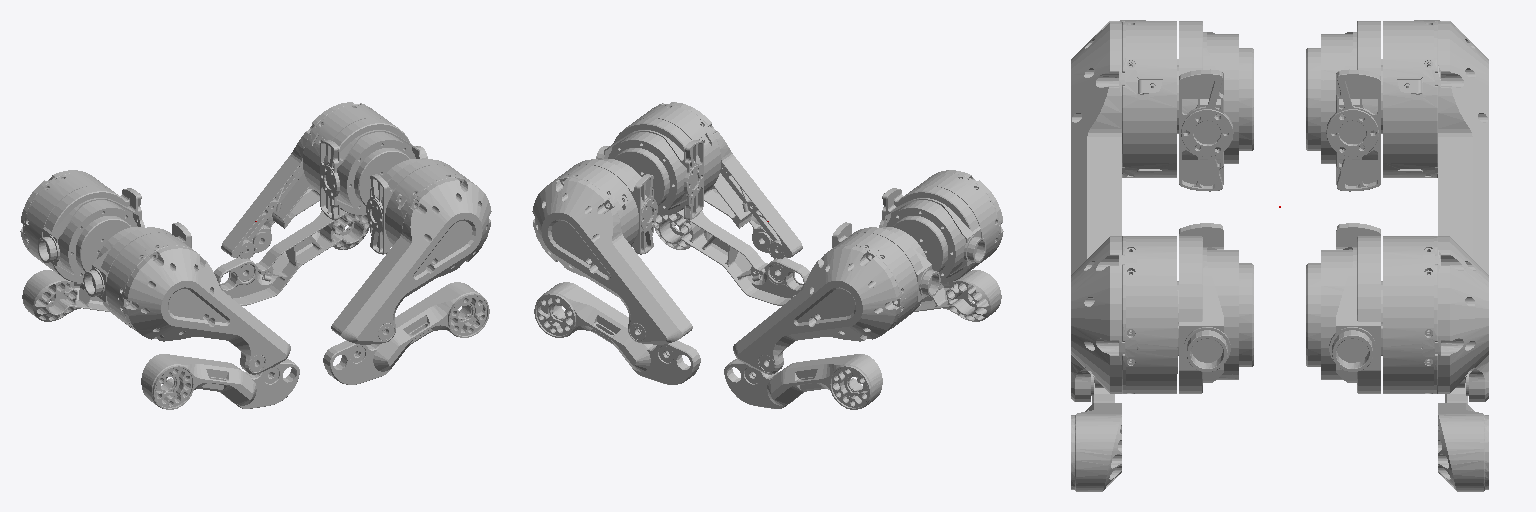
robot.urdf — y2_description:
<?xml version="1.0" encoding="utf-8"?>
<!-- This URDF was automatically created by SolidWorks to URDF Exporter! Originally created by Stephen Brawner (brawner@gmail.com) 
     Commit Version: 1.6.0-4-g7f85cfe  Build Version: 1.6.7995.38578
     For more information, please see http://wiki.ros.org/sw_urdf_exporter -->
<robot
  name="y2_description">
  <link
    name="base_link">
<inertial>
  <origin
    xyz="0.0 0.0 0.00660336"
    rpy="0 0 0" />
  <mass
    value="13.62220311" />
  <inertia
    ixx="0.05745341"
    ixy="-0.0002082"
    ixz="0.0"
    iyy="0.28193067"
    iyz="0.0"
    izz="0.28070589" />
</inertial>
    <visual>
      <origin
        xyz="0 0 0"
        rpy="0 0 0" />
      <geometry>
        <mesh
          filename="../meshes/base_link.STL" />
      </geometry>
      <material
        name="">
        <color
          rgba="0.75294 0.75294 0.75294 1" />
      </material>
    </visual>
    <collision>
      <origin
        xyz="0 0 0"
        rpy="0 0 0" />
      <geometry>
        <mesh
          filename="../meshes/base_link.STL" />
      </geometry>
    </collision>
  </link>
  <link
    name="imu_link">
<inertial>
  <origin
    xyz="0 0 0"
    rpy="0 0 0" />
  <mass
    value="0.001" />
  <inertia
    ixx="0.0001"
    ixy="0"
    ixz="0"
    iyy="0.0001"
    iyz="0"
    izz="0.0001" />
</inertial>
    <visual>
      <origin
        xyz="0 0 0"
        rpy="0 0 0" />
      <geometry>
        <box
          size="0.001 0.001 0.001" />
      </geometry>
      <material
        name="red">
        <color
          rgba="1 0 0 1" />
      </material>
    </visual>
    <collision>
      <origin
        xyz="0 0 0"
        rpy="0 0 0" />
      <geometry>
        <box
          size="0.000518 0.000518 0.000518" />
      </geometry>
    </collision>
  </link>
  <joint
    name="imu_joint"
    type="fixed">
    <origin
      xyz="0 0 0"
      rpy="0 0 0" />
    <parent
      link="base_link" />
    <child
      link="imu_link" />
  </joint>
  <link
    name="front_left_hip_link">
<inertial>
  <origin
    xyz="-0.00557137 3.365e-05 0.05740371"
    rpy="0 0 0" />
  <mass
    value="0.93241215" />
  <inertia
    ixx="0.0011636"
    ixy="-4.5e-07"
    ixz="7.77e-06"
    iyy="0.00081261"
    iyz="1.34e-06"
    izz="0.00072333" />
</inertial>
    <visual>
      <origin
        xyz="0 0 0"
        rpy="0 0 0" />
      <geometry>
        <mesh
          filename="../meshes/front_left_hip_link.STL" />
      </geometry>
      <material
        name="">
        <color
          rgba="0.75294 0.75294 0.75294 1" />
      </material>
    </visual>
    <collision>
      <origin
        xyz="0 0 0"
        rpy="0 0 0" />
      <geometry>
        <mesh
          filename="../meshes/front_left_hip_link.STL" />
      </geometry>
    </collision>
  </link>
  <joint
    name="front_left_hip_joint"
    type="fixed">
    <origin
      xyz="0.126 0.0525 0"
      rpy="1.5708 0 1.5708" />
    <parent
      link="base_link" />
    <child
      link="front_left_hip_link" />
  </joint>
  <link
    name="front_left_thigh_link">
<inertial>
  <origin
    xyz="0.00850956 0.00116386 -0.03650107"
    rpy="0 0 0" />
  <mass
    value="1.04795802" />
  <inertia
    ixx="0.00097197"
    ixy="-0.00013838"
    ixz="-0.00028846"
    iyy="0.00202121"
    iyz="-4.168e-05"
    izz="0.0022969" />
</inertial>
    <visual>
      <origin
        xyz="0 0 0"
        rpy="0 0 0" />
      <geometry>
        <mesh
          filename="../meshes/front_left_thigh_link.STL" />
      </geometry>
      <material
        name="">
        <color
          rgba="0.75294 0.75294 0.75294 1" />
      </material>
    </visual>
    <collision>
      <origin
        xyz="0 0 0"
        rpy="0 0 0" />
      <geometry>
        <mesh
          filename="../meshes/front_left_thigh_link.STL" />
      </geometry>
    </collision>
  </link>
  <joint
    name="front_left_thigh_joint"
    type="revolute">
    <origin
      xyz="0.087 0 0.0583"
      rpy="-1.5708 0.7854 -1.5708" />
    <parent
      link="front_left_hip_link" />
    <child
      link="front_left_thigh_link" />
    <axis
      xyz="0 0 1" />
    <limit
      lower="-2.3562"
      upper="2.3562"
      effort="24"
      velocity="6" />
  </joint>
  <link
    name="front_left_knee_link">
<inertial>
  <origin
    xyz="0.08449172 0.00209534 -0.00687557"
    rpy="0 0 0" />
  <mass
    value="0.19539429" />
  <inertia
    ixx="6.436e-05"
    ixy="5.555e-05"
    ixz="-3.65e-05"
    iyy="0.0008211"
    iyz="3.3e-07"
    izz="0.0008554" />
</inertial>
    <visual>
      <origin
        xyz="0 0 0"
        rpy="0 0 0" />
      <geometry>
        <mesh
          filename="../meshes/front_left_knee_link.STL" />
      </geometry>
      <material
        name="">
        <color
          rgba="0.75294 0.75294 0.75294 1" />
      </material>
    </visual>
    <collision>
      <origin
        xyz="0 0 0"
        rpy="0 0 0" />
      <geometry>
        <mesh
          filename="../meshes/front_left_knee_link.STL" />
      </geometry>
    </collision>
  </link>
  <joint
    name="front_left_knee_joint"
    type="revolute">
    <origin
      xyz="0.18 0 0"
      rpy="0 0 -2.5197" />
    <parent
      link="front_left_thigh_link" />
    <child
      link="front_left_knee_link" />
    <axis
      xyz="0 0 1" />
    <limit
      lower="0"
      upper="1.9199"
      effort="24"
      velocity="6" />
  </joint>
  <link
    name="front_left_wheel_link">
<inertial>
  <origin
    xyz="-1.864e-05 1.98e-06 0.03424961"
    rpy="0 0 0" />
  <mass
    value="1.48448049" />
  <inertia
    ixx="0.00350856"
    ixy="3e-08"
    ixz="2.2e-07"
    iyy="0.00351161"
    iyz="-2.2e-07"
    izz="0.00660183" />
</inertial>
    <visual>
      <origin
        xyz="0 0 0"
        rpy="0 0 0" />
      <geometry>
        <mesh
          filename="../meshes/front_left_wheel_link.STL" />
      </geometry>
      <material
        name="">
        <color
          rgba="0.89804 0.91765 0.92941 1" />
      </material>
    </visual>
    <collision>
      <origin
        xyz="0 0 0"
        rpy="0 0 0" />
      <geometry>
        <mesh
          filename="../meshes/front_left_wheel_link.STL" />
      </geometry>
    </collision>
  </link>
  <joint
    name="front_left_wheel_joint"
    type="revolute">
    <origin
      xyz="0.18 0 0"
      rpy="0 0 0.16348" />
    <parent
      link="front_left_knee_link" />
    <child
      link="front_left_wheel_link" />
    <axis
      xyz="0 0 1" />
    <limit
      lower="-31415926535.0"
      upper="31415926535.0"
      effort="20"
      velocity="30" />
  </joint>
  <link
    name="front_right_hip_link">
<inertial>
  <origin
    xyz="0.00557137 -3.365e-05 0.05740371"
    rpy="0 0 0" />
  <mass
    value="0.93241215" />
  <inertia
    ixx="0.0011636"
    ixy="-4.5e-07"
    ixz="-7.77e-06"
    iyy="0.00081261"
    iyz="-1.34e-06"
    izz="0.00072333" />
</inertial>
    <visual>
      <origin
        xyz="0 0 0"
        rpy="0 0 0" />
      <geometry>
        <mesh
          filename="../meshes/front_right_hip_link.STL" />
      </geometry>
      <material
        name="">
        <color
          rgba="0.75294 0.75294 0.75294 1" />
      </material>
    </visual>
    <collision>
      <origin
        xyz="0 0 0"
        rpy="0 0 0" />
      <geometry>
        <mesh
          filename="../meshes/front_right_hip_link.STL" />
      </geometry>
    </collision>
  </link>
  <joint
    name="front_right_hip_joint"
    type="fixed">
    <origin
      xyz="0.126 -0.0525 0"
      rpy="1.5708 0 1.5708" />
    <parent
      link="base_link" />
    <child
      link="front_right_hip_link" />
  </joint>
  <link
    name="front_right_thigh_link">
<inertial>
  <origin
    xyz="0.00850956 0.00116386 0.03650107"
    rpy="0 0 0" />
  <mass
    value="1.04795802" />
  <inertia
    ixx="0.00097197"
    ixy="-0.00013838"
    ixz="0.00028846"
    iyy="0.00202121"
    iyz="4.168e-05"
    izz="0.0022969" />
</inertial>
    <visual>
      <origin
        xyz="0 0 0"
        rpy="0 0 0" />
      <geometry>
        <mesh
          filename="../meshes/front_right_thigh_link.STL" />
      </geometry>
      <material
        name="">
        <color
          rgba="0.75294 0.75294 0.75294 1" />
      </material>
    </visual>
    <collision>
      <origin
        xyz="0 0 0"
        rpy="0 0 0" />
      <geometry>
        <mesh
          filename="../meshes/front_right_thigh_link.STL" />
      </geometry>
    </collision>
  </link>
  <joint
    name="front_right_thigh_joint"
    type="revolute">
    <origin
      xyz="-0.087 0 0.0583"
      rpy="-1.5708 0.7854 -1.5708" />
    <parent
      link="front_right_hip_link" />
    <child
      link="front_right_thigh_link" />
    <axis
      xyz="0 0 1" />
    <limit
      lower="-2.3562"
      upper="2.3562"
      effort="24"
      velocity="6" />
  </joint>
  <link
    name="front_right_knee_link">
<inertial>
  <origin
    xyz="0.08449172 0.00209534 0.00687557"
    rpy="0 0 0" />
  <mass
    value="0.19539429" />
  <inertia
    ixx="6.436e-05"
    ixy="5.555e-05"
    ixz="3.65e-05"
    iyy="0.0008211"
    iyz="-3.3e-07"
    izz="0.0008554" />
</inertial>
    <visual>
      <origin
        xyz="0 0 0"
        rpy="0 0 0" />
      <geometry>
        <mesh
          filename="../meshes/front_right_knee_link.STL" />
      </geometry>
      <material
        name="">
        <color
          rgba="0.75294 0.75294 0.75294 1" />
      </material>
    </visual>
    <collision>
      <origin
        xyz="0 0 0"
        rpy="0 0 0" />
      <geometry>
        <mesh
          filename="../meshes/front_right_knee_link.STL" />
      </geometry>
    </collision>
  </link>
  <joint
    name="front_right_knee_joint"
    type="revolute">
    <origin
      xyz="0.18 0 0"
      rpy="0 0 -2.5197" />
    <parent
      link="front_right_thigh_link" />
    <child
      link="front_right_knee_link" />
    <axis
      xyz="0 0 1" />
    <limit
      lower="0"
      upper="1.9199"
      effort="24"
      velocity="6" />
  </joint>
  <link
    name="front_right_wheel_link">
<inertial>
  <origin
    xyz="-1.864e-05 1.98e-06 -0.03424961"
    rpy="0 0 0" />
  <mass
    value="1.48448049" />
  <inertia
    ixx="0.00350856"
    ixy="3e-08"
    ixz="-2.2e-07"
    iyy="0.00351161"
    iyz="-2.2e-07"
    izz="0.00660183" />
</inertial>
    <visual>
      <origin
        xyz="0 0 0"
        rpy="0 0 0" />
      <geometry>
        <mesh
          filename="../meshes/front_right_wheel_link.STL" />
      </geometry>
      <material
        name="">
        <color
          rgba="0.89804 0.91765 0.92941 1" />
      </material>
    </visual>
    <collision>
      <origin
        xyz="0 0 0"
        rpy="0 0 0" />
      <geometry>
        <mesh
          filename="../meshes/front_right_wheel_link.STL" />
      </geometry>
    </collision>
  </link>
  <joint
    name="front_right_wheel_joint"
    type="revolute">
    <origin
      xyz="0.18 0 0"
      rpy="0 0 0.16348" />
    <parent
      link="front_right_knee_link" />
    <child
      link="front_right_wheel_link" />
    <axis
      xyz="0 0 1" />
    <limit
      lower="-31415926535"
      upper="31415926535"
      effort="20"
      velocity="30" />
  </joint>
  <link
    name="back_left_hip_link">
<inertial>
  <origin
    xyz="-0.00557137 3.365e-05 -0.05740371"
    rpy="0 0 0" />
  <mass
    value="0.93241215" />
  <inertia
    ixx="0.0011636"
    ixy="-4.5e-07"
    ixz="-7.77e-06"
    iyy="0.00081261"
    iyz="-1.34e-06"
    izz="0.00072333" />
</inertial>
    <visual>
      <origin
        xyz="0 0 0"
        rpy="0 0 0" />
      <geometry>
        <mesh
          filename="../meshes/back_left_hip_link.STL" />
      </geometry>
      <material
        name="">
        <color
          rgba="0.75294 0.75294 0.75294 1" />
      </material>
    </visual>
    <collision>
      <origin
        xyz="0 0 0"
        rpy="0 0 0" />
      <geometry>
        <mesh
          filename="../meshes/back_left_hip_link.STL" />
      </geometry>
    </collision>
  </link>
  <joint
    name="back_left_hip_joint"
    type="fixed">
    <origin
      xyz="-0.126 0.0525 0"
      rpy="1.5708 0 1.5708" />
    <parent
      link="base_link" />
    <child
      link="back_left_hip_link" />
  </joint>
  <link
    name="back_left_thigh_link">
<inertial>
  <origin
    xyz="0.00850956 -0.00116386 -0.03650107"
    rpy="0 0 0" />
  <mass
    value="1.04795802" />
  <inertia
    ixx="0.00097197"
    ixy="0.00013838"
    ixz="-0.00028846"
    iyy="0.00202121"
    iyz="4.168e-05"
    izz="0.0022969" />
</inertial>
    <visual>
      <origin
        xyz="0 0 0"
        rpy="0 0 0" />
      <geometry>
        <mesh
          filename="../meshes/back_left_thigh_link.STL" />
      </geometry>
      <material
        name="">
        <color
          rgba="0.75294 0.75294 0.75294 1" />
      </material>
    </visual>
    <collision>
      <origin
        xyz="0 0 0"
        rpy="0 0 0" />
      <geometry>
        <mesh
          filename="../meshes/back_left_thigh_link.STL" />
      </geometry>
    </collision>
  </link>
  <joint
    name="back_left_thigh_joint"
    type="revolute">
    <origin
      xyz="0.087 0 -0.0583"
      rpy="-1.5708 -0.7854 -1.5708" />
    <parent
      link="back_left_hip_link" />
    <child
      link="back_left_thigh_link" />
    <axis
      xyz="0 0 1" />
    <limit
      lower="-2.3562"
      upper="2.3562"
      effort="24"
      velocity="6" />
  </joint>
  <link
    name="back_left_knee_link">
<inertial>
  <origin
    xyz="0.08449171 -0.00209534 -0.00687557"
    rpy="0 0 0" />
  <mass
    value="0.19539429" />
  <inertia
    ixx="6.436e-05"
    ixy="-5.555e-05"
    ixz="-3.65e-05"
    iyy="0.0008211"
    iyz="-3.3e-07"
    izz="0.0008554" />
</inertial>
    <visual>
      <origin
        xyz="0 0 0"
        rpy="0 0 0" />
      <geometry>
        <mesh
          filename="../meshes/back_left_knee_link.STL" />
      </geometry>
      <material
        name="">
        <color
          rgba="0.75294 0.75294 0.75294 1" />
      </material>
    </visual>
    <collision>
      <origin
        xyz="0 0 0"
        rpy="0 0 0" />
      <geometry>
        <mesh
          filename="../meshes/back_left_knee_link.STL" />
      </geometry>
    </collision>
  </link>
  <joint
    name="back_left_knee_joint"
    type="revolute">
    <origin
      xyz="0.18 0 0"
      rpy="0 0 2.5197" />
    <parent
      link="back_left_thigh_link" />
    <child
      link="back_left_knee_link" />
    <axis
      xyz="0 0 1" />
    <limit
      lower="-1.9199"
      upper="0"
      effort="24"
      velocity="6" />
  </joint>
  <link
    name="back_left_wheel_link">
<inertial>
  <origin
    xyz="-1.864e-05 -1.98e-06 0.03424961"
    rpy="0 0 0" />
  <mass
    value="1.48448049" />
  <inertia
    ixx="0.00350856"
    ixy="-3e-08"
    ixz="2.2e-07"
    iyy="0.00351161"
    iyz="2.2e-07"
    izz="0.00660183" />
</inertial>
    <visual>
      <origin
        xyz="0 0 0"
        rpy="0 0 0" />
      <geometry>
        <mesh
          filename="../meshes/back_left_wheel_link.STL" />
      </geometry>
      <material
        name="">
        <color
          rgba="1 1 1 1" />
      </material>
    </visual>
    <collision>
      <origin
        xyz="0 0 0"
        rpy="0 0 0" />
      <geometry>
        <mesh
          filename="../meshes/back_left_wheel_link.STL" />
      </geometry>
    </collision>
  </link>
  <joint
    name="back_left_wheel_joint"
    type="revolute">
    <origin
      xyz="0.18 0 0"
      rpy="0 0 2.9781" />
    <parent
      link="back_left_knee_link" />
    <child
      link="back_left_wheel_link" />
    <axis
      xyz="0 0 1" />
    <limit
      lower="-31415926535"
      upper="31415926535"
      effort="20"
      velocity="30" />
  </joint>
  <link
    name="back_right_hip_link">
<inertial>
  <origin
    xyz="0.00557137 3.365e-05 -0.05740371"
    rpy="0 0 0" />
  <mass
    value="0.93241215" />
  <inertia
    ixx="0.0011636"
    ixy="4.5e-07"
    ixz="7.77e-06"
    iyy="0.00081261"
    iyz="-1.34e-06"
    izz="0.00072333" />
</inertial>
    <visual>
      <origin
        xyz="0 0 0"
        rpy="0 0 0" />
      <geometry>
        <mesh
          filename="../meshes/back_right_hip_link.STL" />
      </geometry>
      <material
        name="">
        <color
          rgba="0.75294 0.75294 0.75294 1" />
      </material>
    </visual>
    <collision>
      <origin
        xyz="0 0 0"
        rpy="0 0 0" />
      <geometry>
        <mesh
          filename="../meshes/back_right_hip_link.STL" />
      </geometry>
    </collision>
  </link>
  <joint
    name="back_right_hip_joint"
    type="fixed">
    <origin
      xyz="-0.126 -0.0525 0"
      rpy="1.5708 0 1.5708" />
    <parent
      link="base_link" />
    <child
      link="back_right_hip_link" />
  </joint>
  <link
    name="back_right_thigh_link">
<inertial>
  <origin
    xyz="0.00850956 -0.00116386 0.03650107"
    rpy="0 0 0" />
  <mass
    value="1.04795802" />
  <inertia
    ixx="0.00097197"
    ixy="0.00013838"
    ixz="0.00028846"
    iyy="0.00202121"
    iyz="-4.168e-05"
    izz="0.0022969" />
</inertial>
    <visual>
      <origin
        xyz="0 0 0"
        rpy="0 0 0" />
      <geometry>
        <mesh
          filename="../meshes/back_right_thigh_link.STL" />
      </geometry>
      <material
        name="">
        <color
          rgba="0.75294 0.75294 0.75294 1" />
      </material>
    </visual>
    <collision>
      <origin
        xyz="0 0 0"
        rpy="0 0 0" />
      <geometry>
        <mesh
          filename="../meshes/back_right_thigh_link.STL" />
      </geometry>
    </collision>
  </link>
  <joint
    name="back_right_thigh_joint"
    type="revolute">
    <origin
      xyz="-0.087 0 -0.0583"
      rpy="-1.5708 -0.7854 -1.5708" />
    <parent
      link="back_right_hip_link" />
    <child
      link="back_right_thigh_link" />
    <axis
      xyz="0 0 1" />
    <limit
      lower="-2.3562"
      upper="2.3562"
      effort="24"
      velocity="6" />
  </joint>
  <link
    name="back_right_knee_link">
<inertial>
  <origin
    xyz="0.08449171 -0.00209534 0.00687557"
    rpy="0 0 0" />
  <mass
    value="0.19539429" />
  <inertia
    ixx="6.436e-05"
    ixy="-5.555e-05"
    ixz="3.65e-05"
    iyy="0.0008211"
    iyz="3.3e-07"
    izz="0.0008554" />
</inertial>
    <visual>
      <origin
        xyz="0 0 0"
        rpy="0 0 0" />
      <geometry>
        <mesh
          filename="../meshes/back_right_knee_link.STL" />
      </geometry>
      <material
        name="">
        <color
          rgba="0.75294 0.75294 0.75294 1" />
      </material>
    </visual>
    <collision>
      <origin
        xyz="0 0 0"
        rpy="0 0 0" />
      <geometry>
        <mesh
          filename="../meshes/back_right_knee_link.STL" />
      </geometry>
    </collision>
  </link>
  <joint
    name="back_right_knee_joint"
    type="revolute">
    <origin
      xyz="0.18 0 0"
      rpy="0 0 2.5197" />
    <parent
      link="back_right_thigh_link" />
    <child
      link="back_right_knee_link" />
    <axis
      xyz="0 0 1" />
    <limit
      lower="-1.9199"
      upper="0"
      effort="24"
      velocity="6" />
  </joint>
  <link
    name="back_right_wheel_link">
<inertial>
  <origin
    xyz="-1.864e-05 -1.98e-06 -0.03424961"
    rpy="0 0 0" />
  <mass
    value="1.48448049" />
  <inertia
    ixx="0.00350856"
    ixy="-3e-08"
    ixz="-2.2e-07"
    iyy="0.00351161"
    iyz="-2.2e-07"
    izz="0.00660183" />
</inertial>
    <visual>
      <origin
        xyz="0 0 0"
        rpy="0 0 0" />
      <geometry>
        <mesh
          filename="../meshes/back_right_wheel_link.STL" />
      </geometry>
      <material
        name="">
        <color
          rgba="0.89804 0.91765 0.92941 1" />
      </material>
    </visual>
    <collision>
      <origin
        xyz="0 0 0"
        rpy="0 0 0" />
      <geometry>
        <mesh
          filename="../meshes/back_right_wheel_link.STL" />
      </geometry>
    </collision>
  </link>
  <joint
    name="back_right_wheel_joint"
    type="revolute">
    <origin
      xyz="0.18 0 0"
      rpy="0 0 2.9781" />
    <parent
      link="back_right_knee_link" />
    <child
      link="back_right_wheel_link" />
    <axis
      xyz="0 0 1" />
    <limit
      lower="-31415926535"
      upper="31415926535"
      effort="20"
      velocity="30" />
  </joint>
</robot>

--- Render facts (derived) ---
The picture shows the robot from 3 angles, left to right: view 1: azimuth 30°, elevation 25°; view 2: azimuth 150°, elevation 25°; view 3: azimuth 270°, elevation 25°; orthographic projection.
Robot: y2_description — 18 links, 17 joints (12 revolute, 5 fixed); root link base_link; default pose: every joint at zero.
Links seen in each view (by area): view 1: front_right_thigh_link, back_right_thigh_link, front_left_thigh_link, front_right_knee_link, back_left_hip_link, front_left_hip_link, back_right_knee_link, front_left_knee_link, back_left_knee_link, back_left_thigh_link, front_right_hip_link, back_right_hip_link; view 2: front_left_thigh_link, back_left_thigh_link, front_right_thigh_link, front_left_knee_link, back_right_hip_link, front_right_hip_link, back_left_knee_link, front_right_knee_link, back_right_knee_link, back_right_thigh_link, front_left_hip_link, back_left_hip_link; view 3: back_left_thigh_link, back_right_thigh_link, front_right_thigh_link, front_left_thigh_link, front_left_hip_link, front_right_hip_link, back_left_hip_link, back_right_hip_link, front_left_knee_link, front_right_knee_link.
Link boxes in pixels (box(x1,y1,x2,y2)): front_right_thigh_link: box(331, 165, 491, 344); back_right_thigh_link: box(106, 233, 290, 374); front_left_thigh_link: box(221, 102, 390, 258); front_right_knee_link: box(323, 282, 489, 384); back_left_hip_link: box(38, 186, 144, 283); front_left_hip_link: box(320, 118, 427, 219); back_right_knee_link: box(141, 354, 299, 409); front_left_knee_link: box(214, 209, 369, 305); back_left_knee_link: box(22, 270, 130, 327); back_left_thigh_link: box(20, 170, 110, 270); front_right_hip_link: box(366, 159, 453, 254); back_right_hip_link: box(83, 222, 191, 317); front_left_thigh_link: box(532, 165, 692, 344); back_left_thigh_link: box(733, 233, 917, 374); front_right_thigh_link: box(633, 102, 802, 258); front_left_knee_link: box(534, 282, 700, 384); back_right_hip_link: box(879, 186, 985, 283); front_right_hip_link: box(596, 118, 703, 219); back_left_knee_link: box(724, 354, 882, 409); front_right_knee_link: box(654, 209, 809, 305); back_right_knee_link: box(893, 270, 1001, 327); back_right_thigh_link: box(913, 170, 1003, 270); front_left_hip_link: box(570, 159, 657, 254); back_left_hip_link: box(832, 222, 940, 317); back_left_thigh_link: box(1381, 20, 1488, 274); back_right_thigh_link: box(1071, 20, 1178, 274); front_right_thigh_link: box(1071, 236, 1178, 401); front_left_thigh_link: box(1381, 236, 1488, 401); front_left_hip_link: box(1306, 223, 1380, 393); front_right_hip_link: box(1179, 223, 1253, 393); back_left_hip_link: box(1306, 21, 1380, 191); back_right_hip_link: box(1179, 21, 1253, 191); front_left_knee_link: box(1438, 383, 1488, 491); front_right_knee_link: box(1071, 383, 1121, 491).
Bounding box of the posed robot: 0.5006 × 0.302 × 0.222 m (x, y, z).
12 mesh visuals loaded from 17 distinct referenced files (12 binary STL); not drawn: 5 (reference not matched to a file when rendering).
